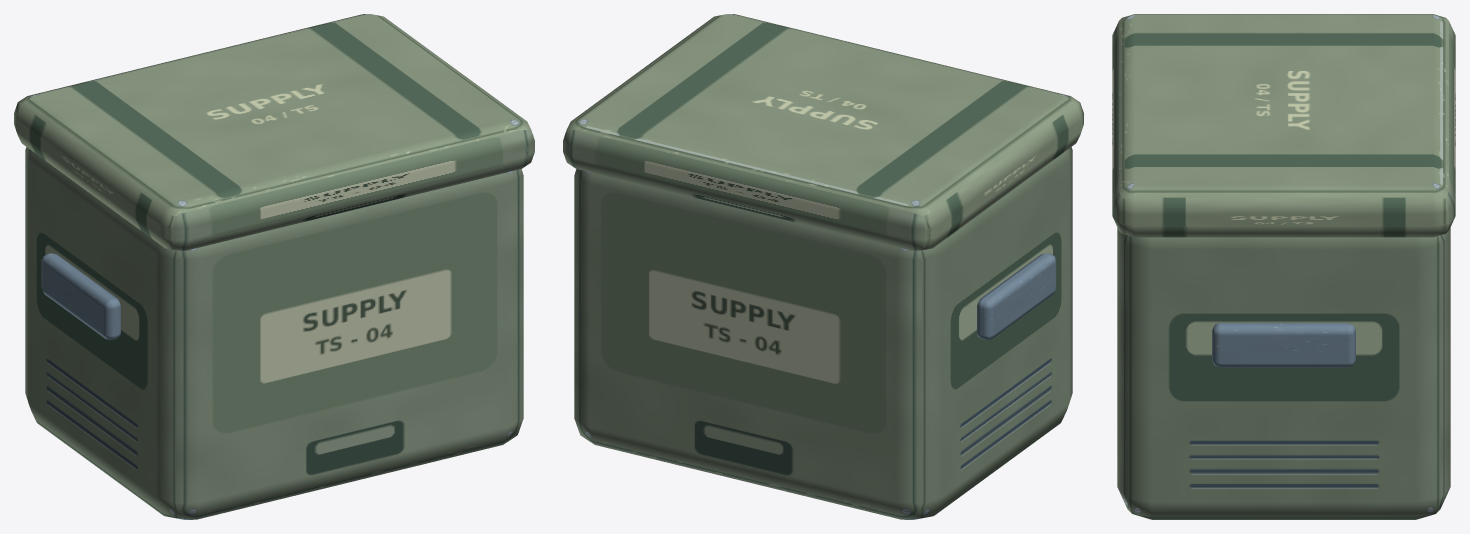
Rendered from SM_SupplyCrate.glb.
3 views of the same model, side by side, from view 1: azimuth 30°, elevation 25°; view 2: azimuth 150°, elevation 25°; view 3: azimuth 270°, elevation 25° (orthographic). The views are drawn at different scales.
Visible parts, largest first — view 1: SM_SupplyCrate; view 2: SM_SupplyCrate; view 3: SM_SupplyCrate.
Part boxes in pixels (x1,y1,x2,y2): SM_SupplyCrate: (14,14,534,519); SM_SupplyCrate: (563,14,1083,519); SM_SupplyCrate: (1112,14,1455,519).
Size of the model in its own units: 0.972 by 0.7575 by 0.69.
Materials: 1 (1 with a texture image).
